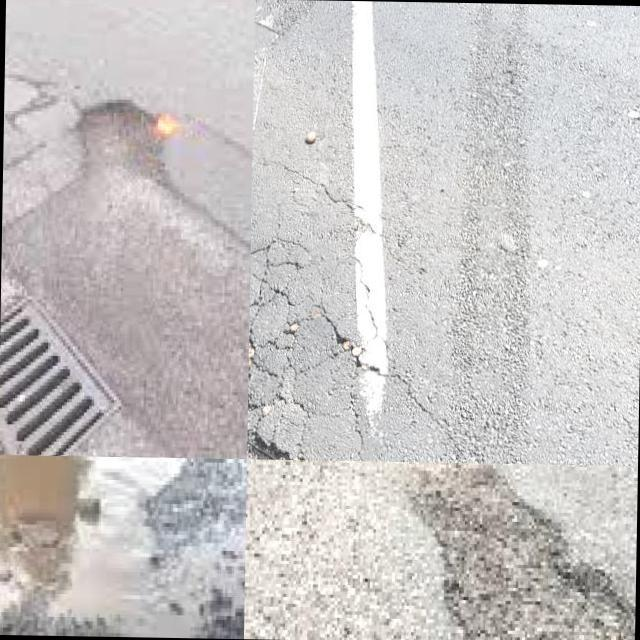Pothole: (393, 461, 635, 640), (0, 454, 203, 638), (67, 99, 193, 221)
